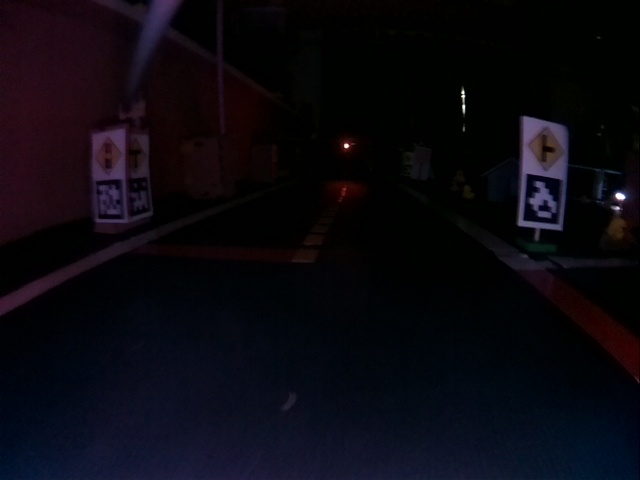Duckie: (608, 217, 627, 241), (465, 185, 474, 198), (451, 183, 460, 191), (458, 173, 465, 180)
Intersection sign: (528, 125, 566, 170), (128, 144, 147, 173)
QR code: (523, 174, 562, 225), (96, 179, 123, 221), (128, 177, 150, 216)
Signal sign: (97, 138, 123, 176)
Traffic light: (342, 142, 350, 152)
